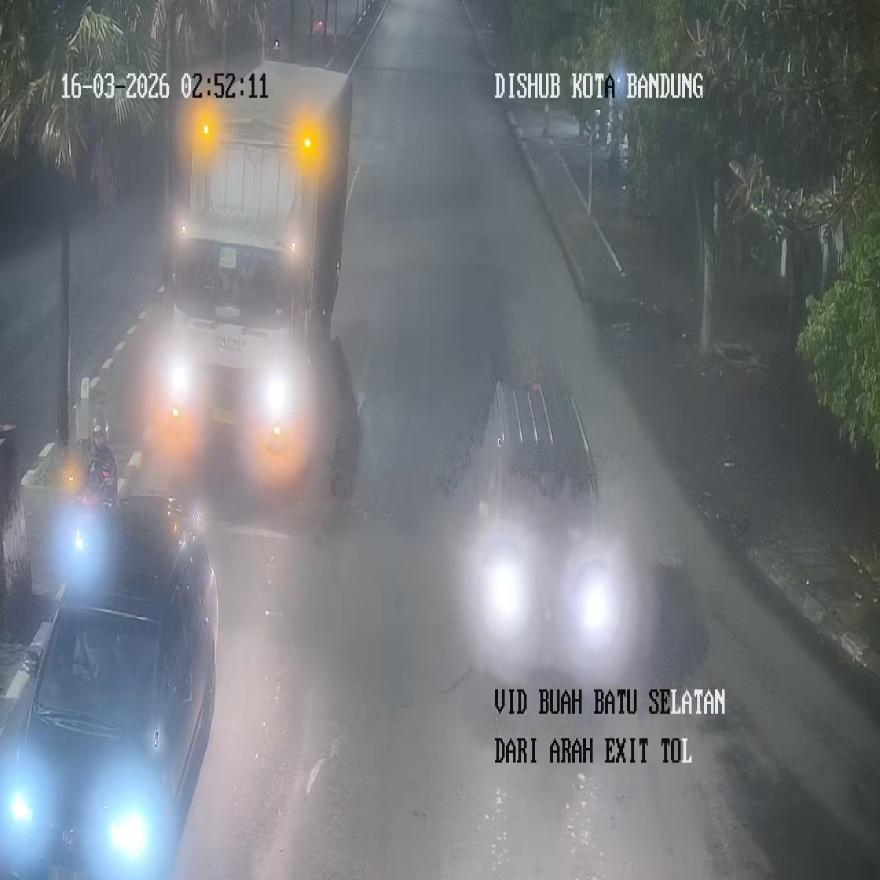Motor: (0, 496, 218, 878), (459, 352, 639, 682)
